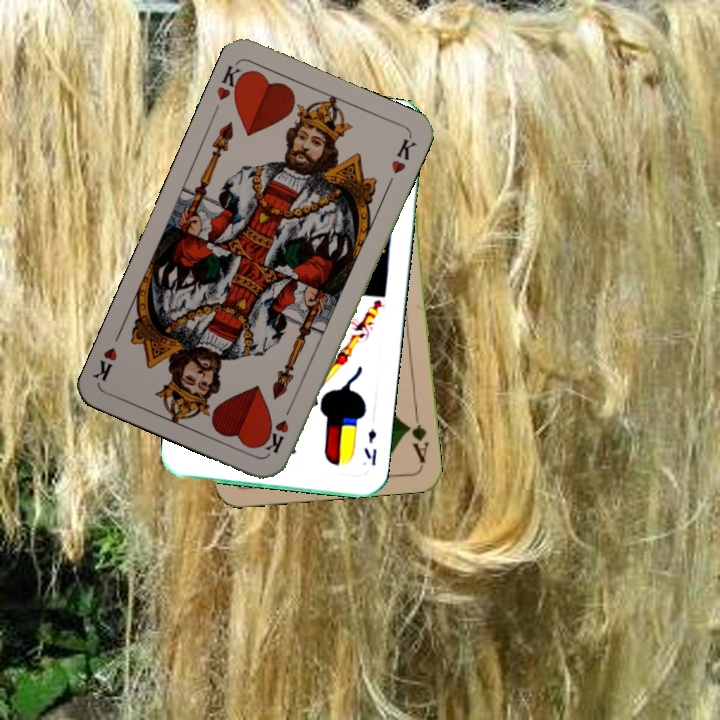EK: (360, 425, 379, 468)
GA: (403, 407, 432, 466)
HK: (260, 400, 295, 456), (212, 60, 250, 104)
